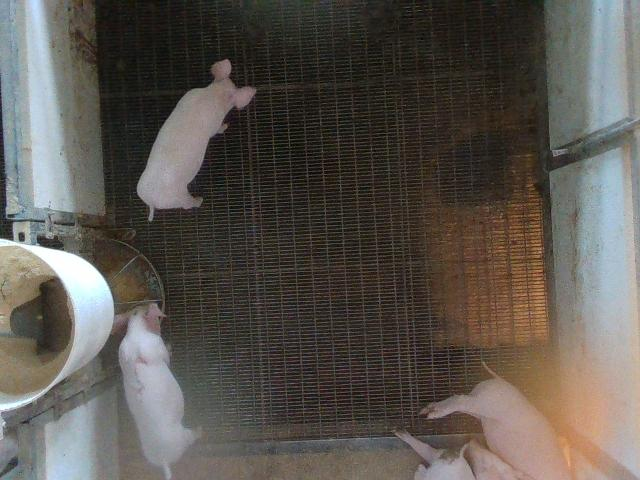pig-5: (111, 302, 200, 479)
